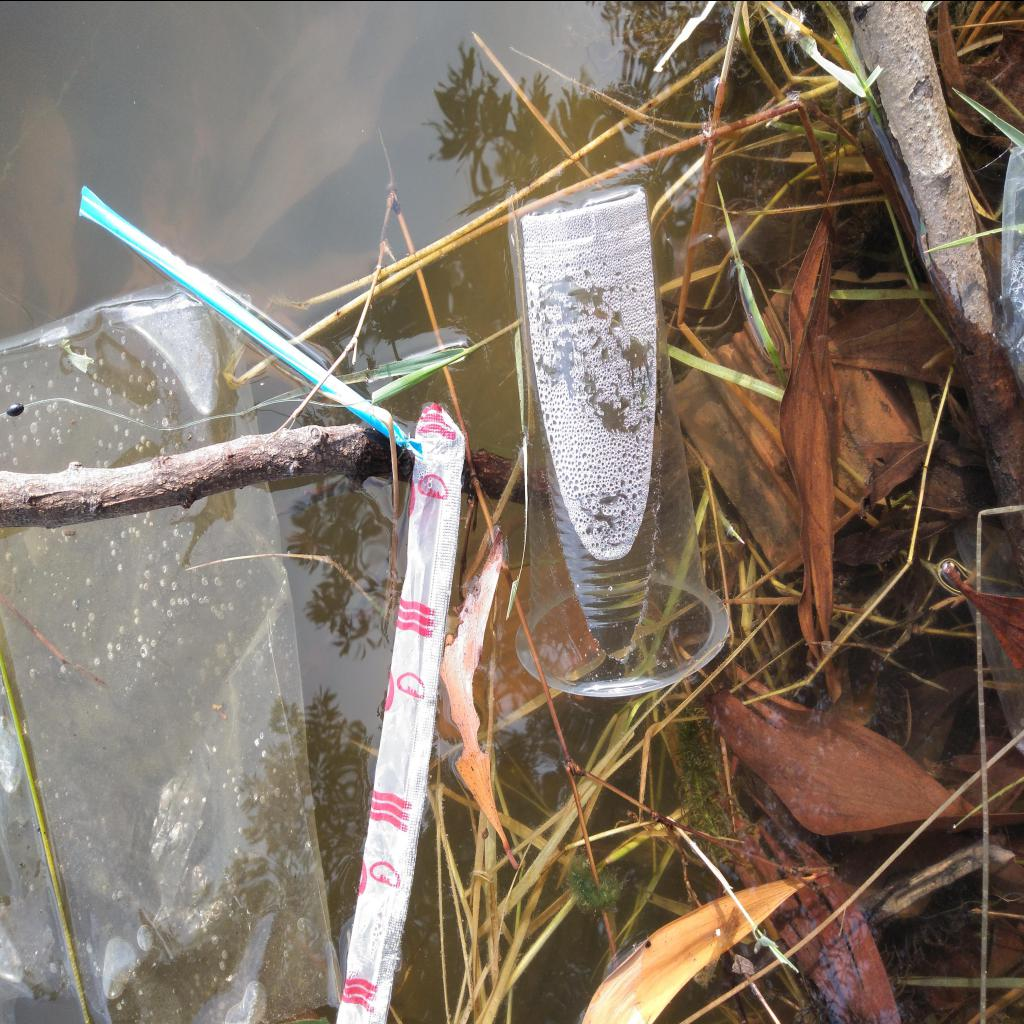Disposable plastic cup: (509, 182, 729, 696)
Plastic film: (0, 282, 342, 1022), (336, 402, 466, 1024), (952, 516, 1024, 754), (1002, 146, 1024, 398)
Plastic straw: (80, 184, 426, 460)
